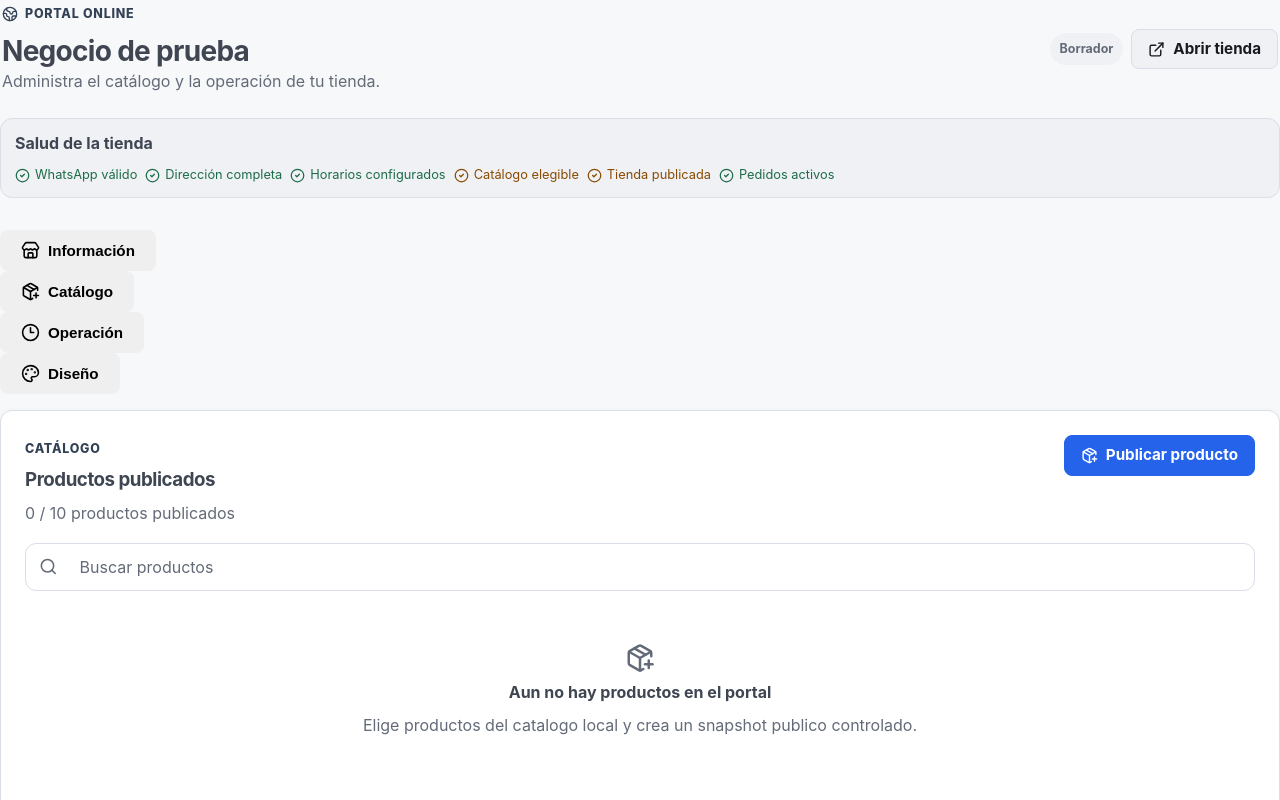
it: EcommercePortalSettings + EcommerceProductPublishModal catalog lifecycle › ignores a stale search response that resolves after the newest request
The image size is (1280, 800).
Step 1. Click the button "Publicar producto" → (1159, 456), box top-left (1064, 435), bottom-right (1255, 476)
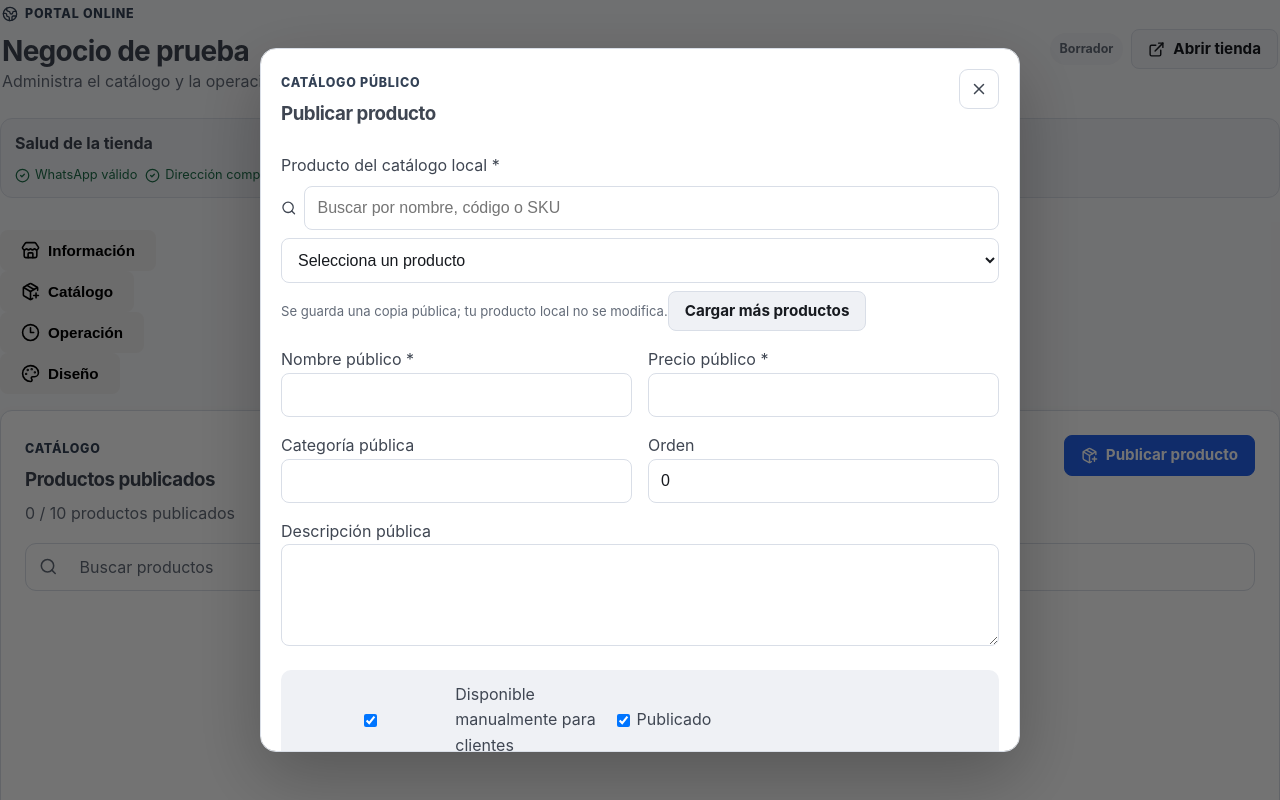
Expected: the dialog "Publicar producto" is shown, top-left (260, 48), bottom-right (1020, 752)
Step 2. Type "pro" into the search field with placeholder "Buscar por nombre, código o SKU" → (652, 208), box top-left (304, 186), bottom-right (999, 230)
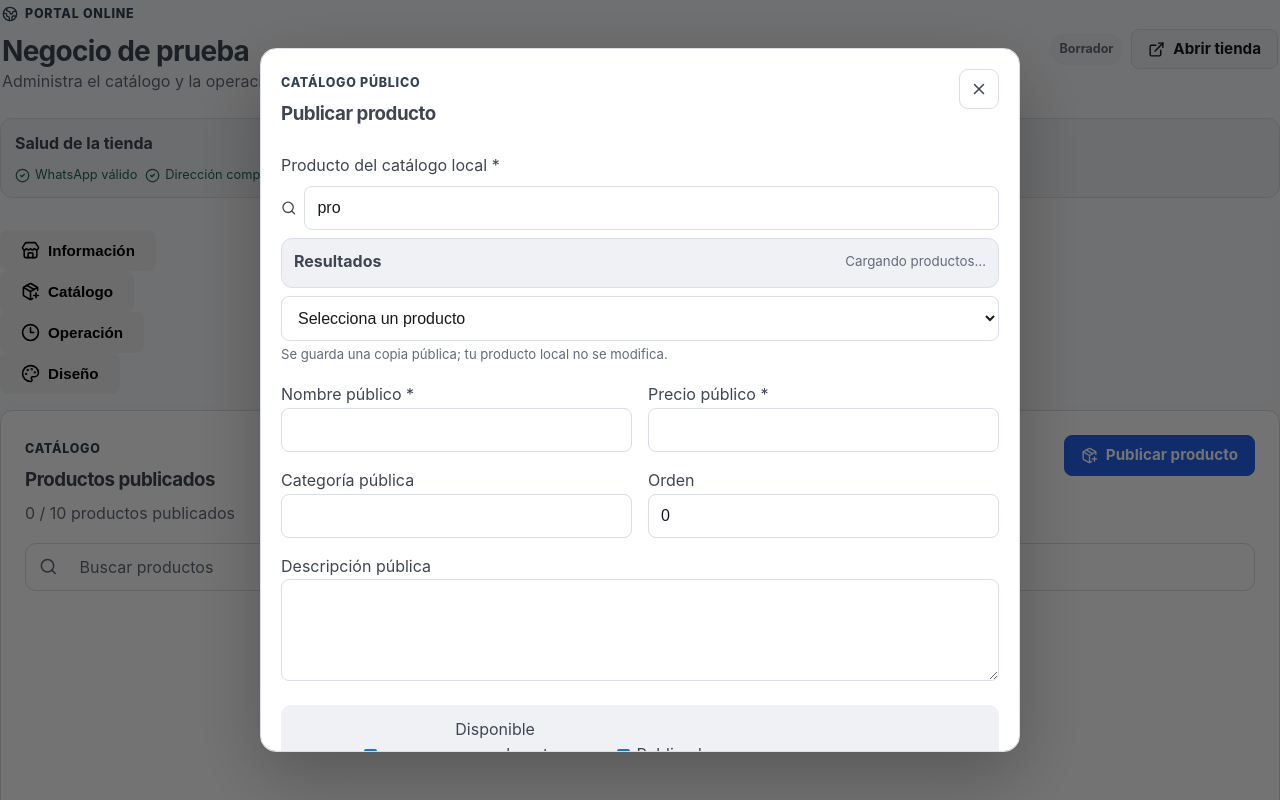
Step 3. Replace the text in the search field with placeholder "Buscar por nombre, código o SKU" with "producto" → (652, 208), box top-left (304, 186), bottom-right (999, 230)
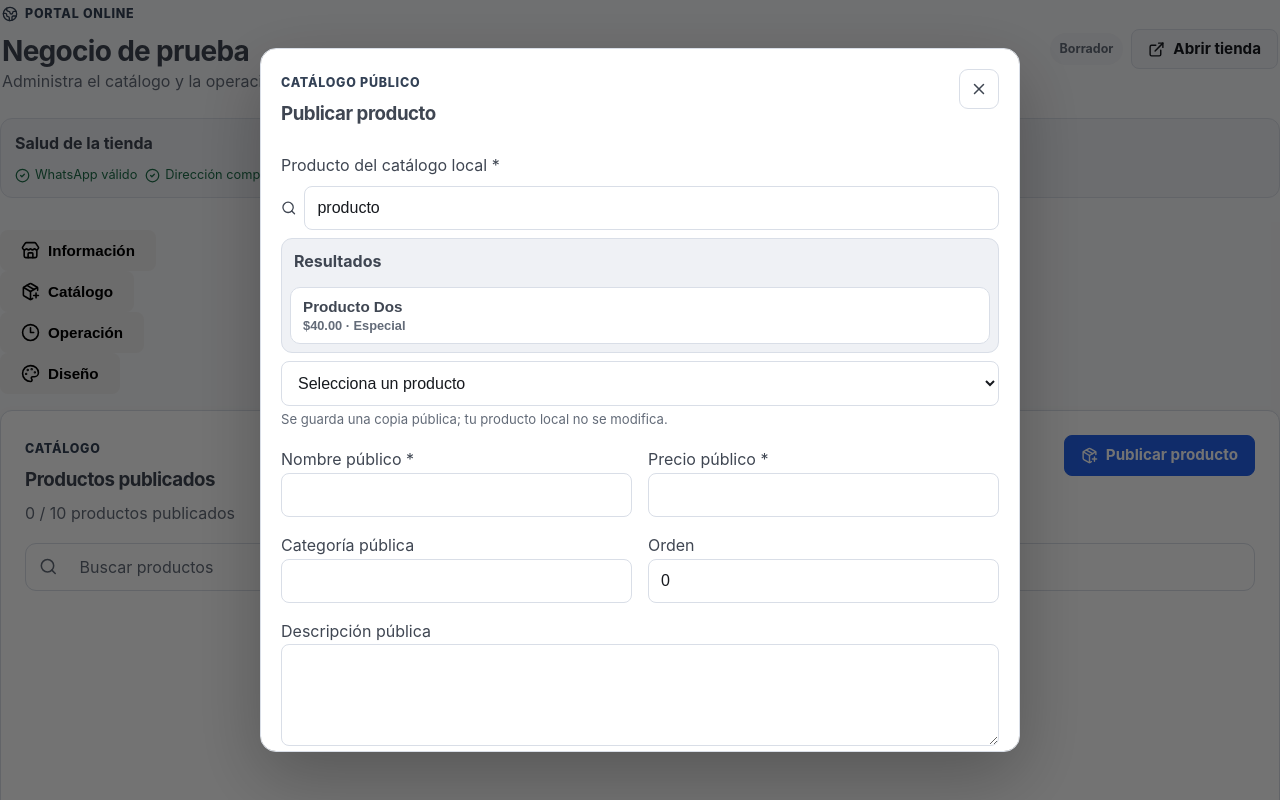
Expected: the button with aria-label "Seleccionar Producto Dos" is shown, top-left (290, 287), bottom-right (990, 344)
